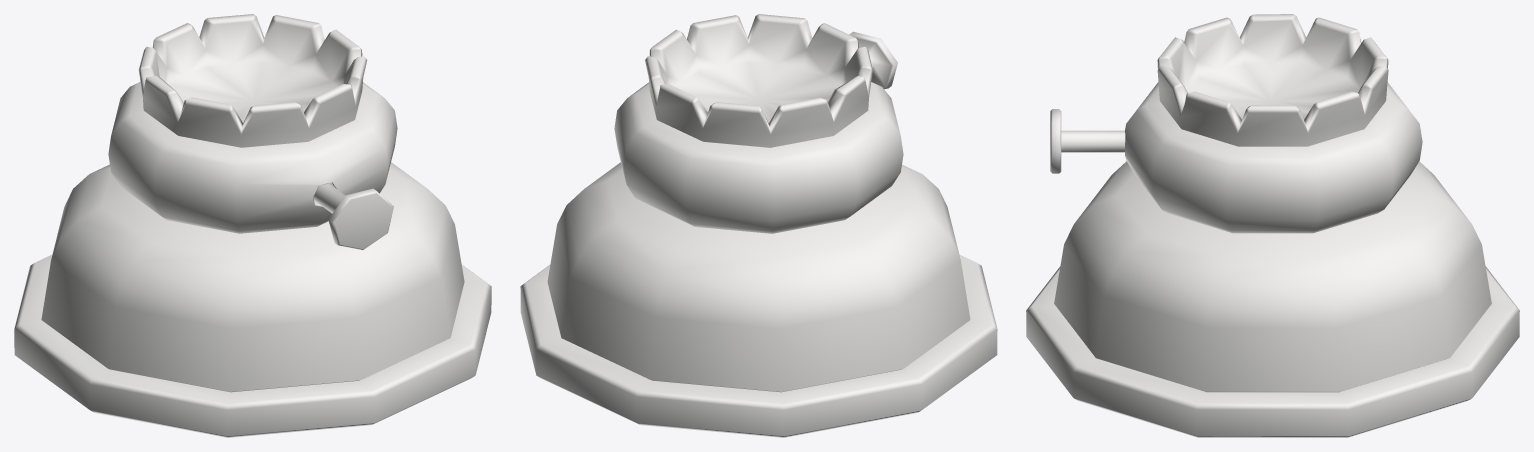
The model's file is P_AP24OilLampBase.glb.
3 renders of one model, left to right at view 1: azimuth 30°, elevation 25°; view 2: azimuth 150°, elevation 25°; view 3: azimuth 270°, elevation 25°, orthographic.
Parts seen in each view (by area): view 1: P_AP24OilLampBase; view 2: P_AP24OilLampBase; view 3: P_AP24OilLampBase.
Boxes of the visible parts, x1,y1,x2,y2 form: P_AP24OilLampBase: [14, 14, 491, 437]; P_AP24OilLampBase: [520, 14, 997, 437]; P_AP24OilLampBase: [1026, 14, 1519, 437].
Bounding box in the file's own units: 0.2346 × 0.1546 × 0.2467.
Materials: 1 (1 with a texture image).
